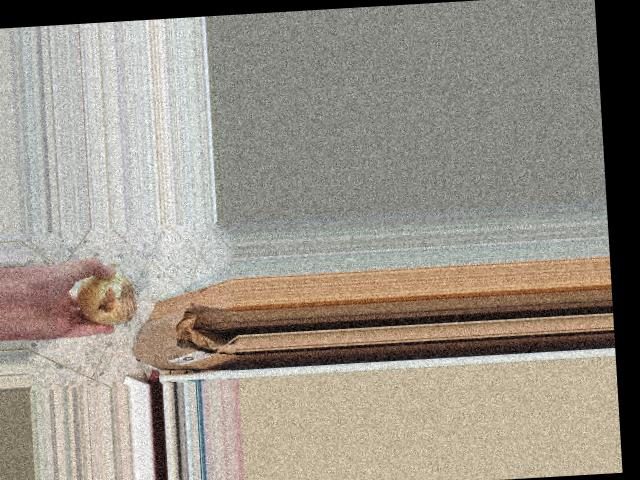onion: (71, 260, 138, 328)
